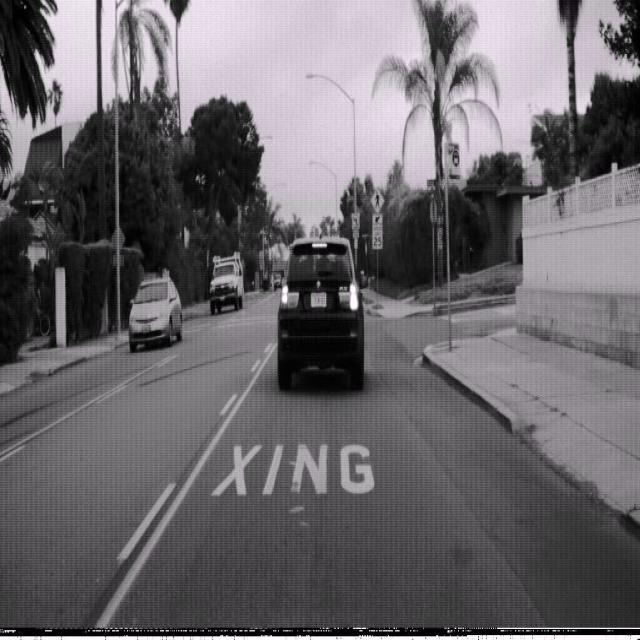pedestrianCrossing: (370, 185, 384, 213)
speedLimit25: (372, 222, 382, 249)
